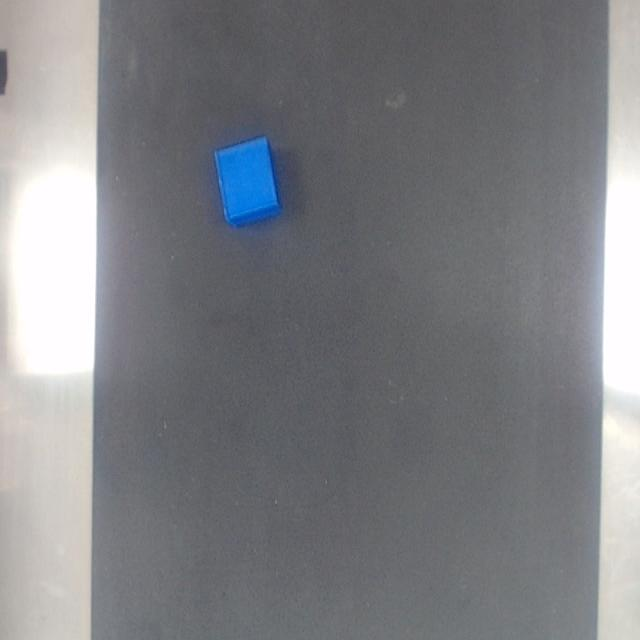Azul: (215, 136, 281, 227)
